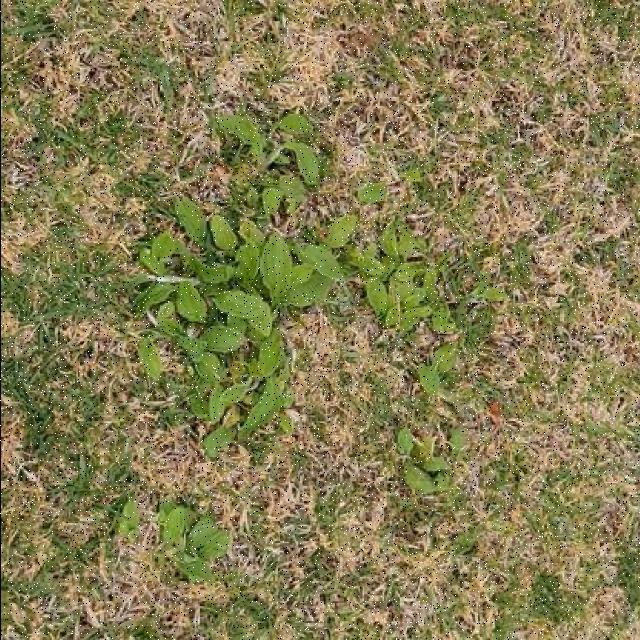weed: (133, 112, 448, 460), (157, 502, 228, 583)
